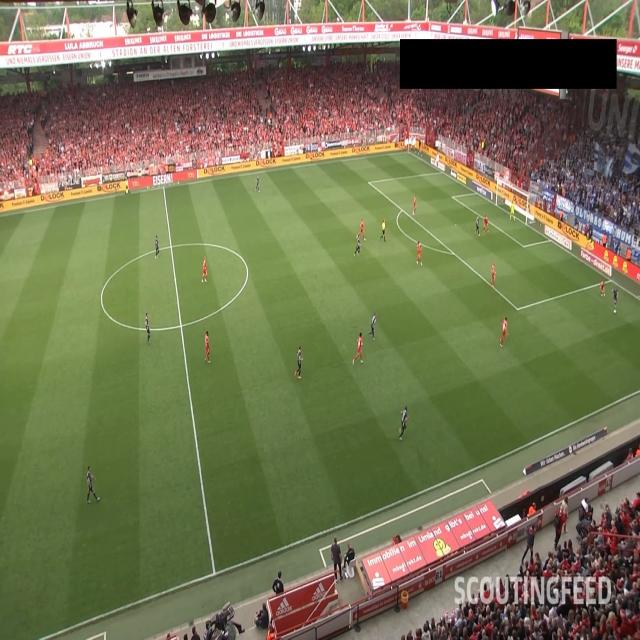ball: (613, 309, 617, 314)
